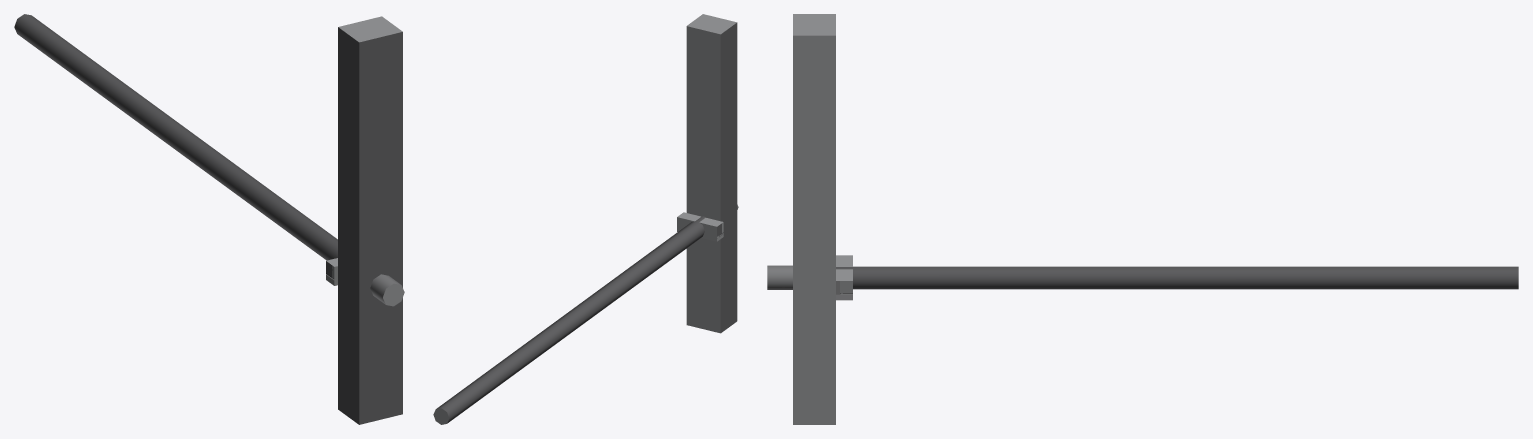
The picture shows the model from 3 angles, left to right: view 1: azimuth 30°, elevation 25°; view 2: azimuth 150°, elevation 25°; view 3: azimuth 270°, elevation 25°; orthographic projection. The views are drawn at different scales.
Bounding box in the file's own units: 0.14 × 1 × 1.75.
